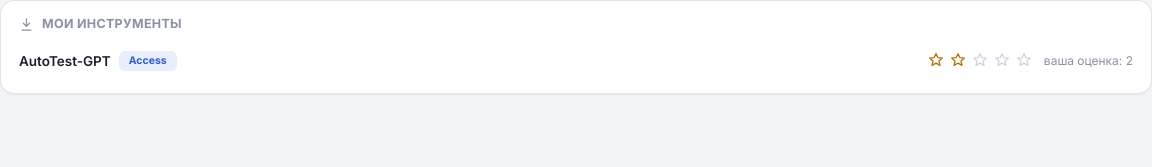
Test: MyDownloadsPanel › shows an error and keeps the previous rating when rating fails
Click the 4th button with class "star-btn".
click(1002, 61)  # box [992,50,1012,73]
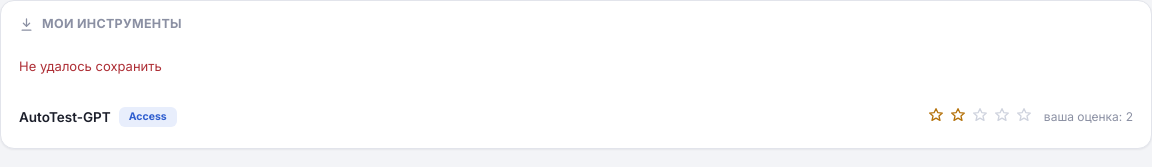
Expected: the text "ваша оценка: 2" is shown, [1044,108,1133,126]
Result: the text with class "error-text" reads "Не удалось сохранить" at [19,58,162,74]
